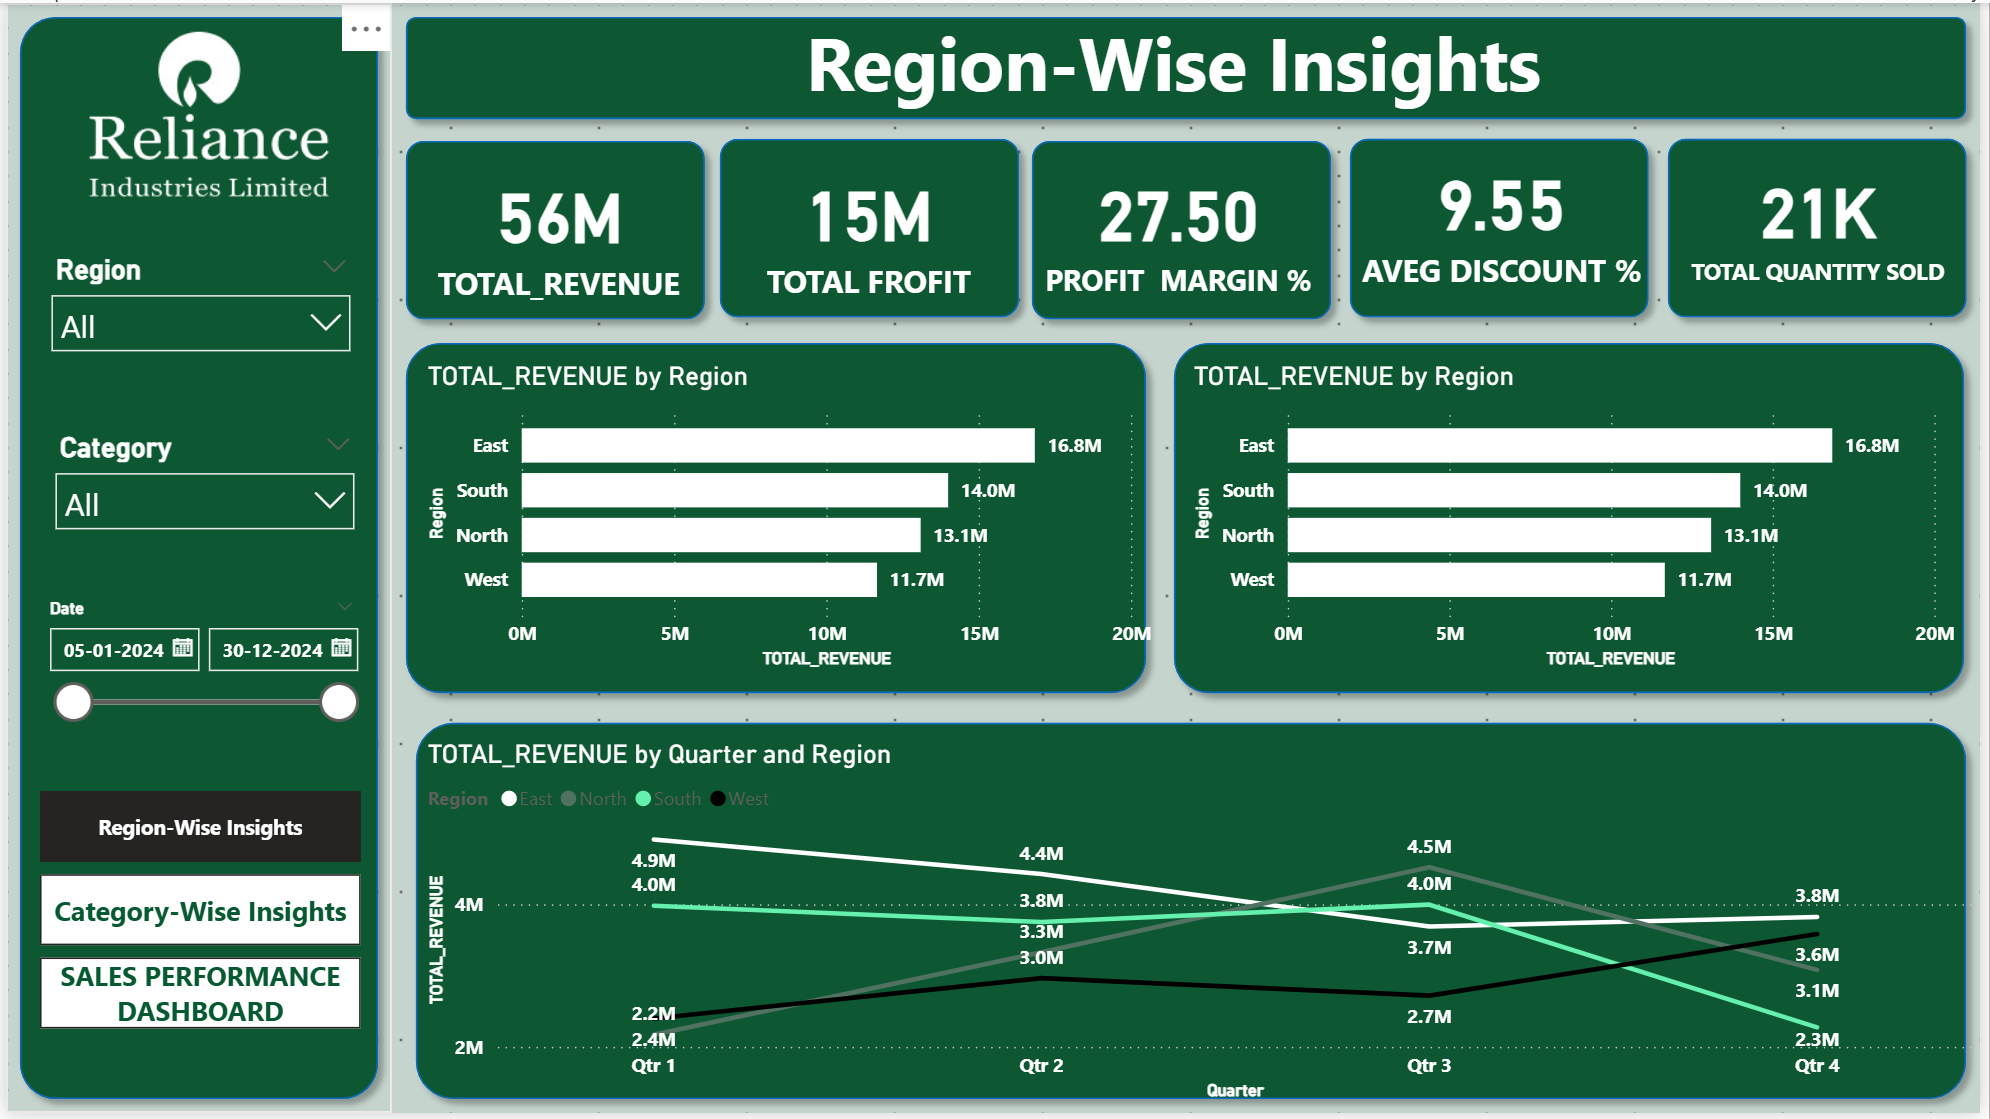

The dashboard page shown, as its layout file describes it:
{"tool":"powerbi","page":{"name":"Region-Wise Insights","canvas":[1280,720],"ordinal":0},"visuals":[{"type":"shape","box":[1068.3,78.8,211.7,133.8],"z":0},{"type":"shape","box":[862.1,78.8,211.7,133.8],"z":1000},{"type":"shape","box":[250.6,80,211.9,133.8],"z":2000},{"type":"shape","box":[454.2,79.2,212.1,133.8],"z":3000},{"type":"shape","box":[655.8,80,212.1,133.8],"z":4000},{"type":"shape","box":[250.4,0,1030.1,84.3],"z":5000},{"type":"textbox","box":[513.7,0,522.8,76.5],"z":6000},{"type":"shape","box":[0,0,250.4,720],"z":7000},{"type":"card","fields":{"Values":["Sales_Data.TOTAL FROFIT"]},"box":[435,93.3,250,106.7],"z":8000},{"type":"card","fields":{"Values":["Sales_Data.PROFIT  MARGIN %"]},"box":[663.3,91.7,195,108.3],"z":9000},{"type":"card","fields":{"Values":["Sales_Data.AVEG DISCOUNT %"]},"box":[875,85,191.7,108.3],"z":10000},{"type":"card","fields":{"Values":["Sales_Data.TOTAL QUANTITY SOLD"]},"box":[1081.7,81.7,186.7,120],"z":11000},{"type":"shape","box":[748.5,211.5,530.6,245.2],"z":12000},{"type":"shape","box":[256.9,457.9,1023.6,262.1],"z":13000},{"type":"image","box":[6.5,2.6,250.4,138.8],"z":14000},{"type":"shape","box":[250.4,211.5,498.2,245.2],"z":15000},{"type":"card","fields":{"Values":["Sales_Data.TOTAL_REVENUE"]},"box":[268.3,95,180,106.7],"z":16000},{"type":"barChart","fields":{"Category":["Sales_Data.Region"],"Y":["Sales_Data.TOTAL_REVENUE"]},"box":[268.5,232.2,480,203.7],"z":17000},{"type":"barChart","fields":{"Category":["Sales_Data.Region"],"Y":["Sales_Data.TOTAL_REVENUE"]},"box":[765.4,232.2,503.4,203.7],"z":18000},{"type":"lineChart","fields":{"Y":["Sales_Data.TOTAL_REVENUE"],"Series":["Sales_Data.Region"],"Category":["Sales_Data.Date.Variation.Date Hierarchy.Quarter"]},"box":[268.5,477.4,1011.9,238.7],"z":19000},{"type":"pageNavigator","box":[22.1,511.1,208.9,208.9],"z":20000},{"type":"slicer","fields":{"Values":["Sales_Data.Region"]},"box":[19.5,157,214.1,88.2],"z":21000},{"type":"slicer","fields":{"Values":["Sales_Data.Category"]},"box":[22.1,272.4,214.1,88.2],"z":22000},{"type":"slicer","fields":{"Values":["Sales_Data.Date"]},"box":[15.6,381.4,221.8,96],"z":23000}]}

Visuals, with their boxes in screenshot pixels (x1, y1, x2, y2), scaled from the page's 1280x720 canvas onto the 1990x1119 screenshot:
shape: (x1=1661, y1=122, x2=1989, y2=330)
shape: (x1=1340, y1=122, x2=1669, y2=330)
shape: (x1=390, y1=124, x2=719, y2=332)
shape: (x1=706, y1=123, x2=1036, y2=331)
shape: (x1=1020, y1=124, x2=1349, y2=332)
shape: (x1=389, y1=0, x2=1989, y2=131)
textbox: (x1=799, y1=0, x2=1611, y2=119)
shape: (x1=0, y1=0, x2=389, y2=1118)
card - Sales_Data.TOTAL FROFIT: (x1=676, y1=145, x2=1065, y2=311)
card - Sales_Data.PROFIT  MARGIN %: (x1=1031, y1=143, x2=1334, y2=311)
card - Sales_Data.AVEG DISCOUNT %: (x1=1360, y1=132, x2=1658, y2=300)
card - Sales_Data.TOTAL QUANTITY SOLD: (x1=1682, y1=127, x2=1972, y2=313)
shape: (x1=1164, y1=329, x2=1989, y2=710)
shape: (x1=399, y1=712, x2=1989, y2=1118)
image: (x1=10, y1=4, x2=399, y2=220)
shape: (x1=389, y1=329, x2=1164, y2=710)
card - Sales_Data.TOTAL_REVENUE: (x1=417, y1=148, x2=697, y2=313)
barChart - Sales_Data.Region x Sales_Data.TOTAL_REVENUE: (x1=417, y1=361, x2=1164, y2=677)
barChart - Sales_Data.Region x Sales_Data.TOTAL_REVENUE: (x1=1190, y1=361, x2=1973, y2=677)
lineChart - Sales_Data.TOTAL_REVENUE x Sales_Data.Region: (x1=417, y1=742, x2=1989, y2=1113)
pageNavigator: (x1=34, y1=794, x2=359, y2=1118)
slicer - Sales_Data.Region: (x1=30, y1=244, x2=363, y2=381)
slicer - Sales_Data.Category: (x1=34, y1=423, x2=367, y2=560)
slicer - Sales_Data.Date: (x1=24, y1=593, x2=369, y2=742)
